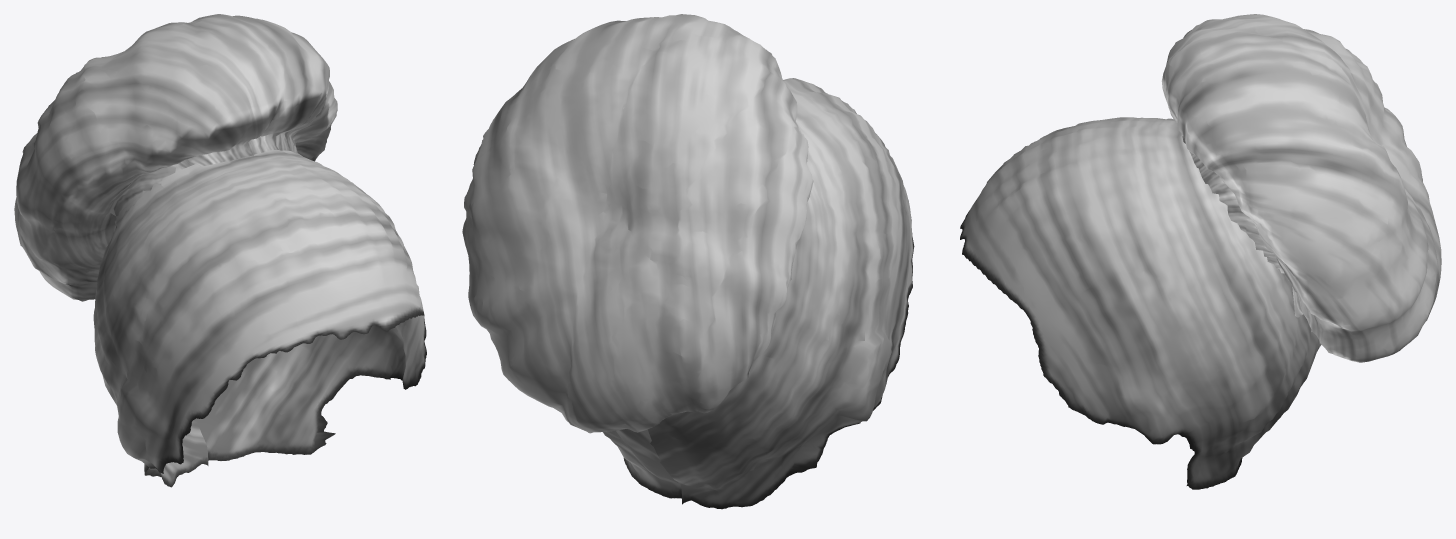
Rendered from daz_hair_crown_braid.glb.
3 views of the same model, side by side, from view 1: azimuth 30°, elevation 25°; view 2: azimuth 150°, elevation 25°; view 3: azimuth 270°, elevation 25° (orthographic). The views are drawn at different scales.
Visible parts, largest first — view 1: daz_hair_crown_braid; view 2: daz_hair_crown_braid; view 3: daz_hair_crown_braid.
Boxes of the visible parts, x1,y1,x2,y2 form: daz_hair_crown_braid: [14, 14, 426, 487]; daz_hair_crown_braid: [462, 14, 914, 509]; daz_hair_crown_braid: [960, 14, 1441, 489].
Bounding box in the file's own units: 0.1689 × 0.2493 × 0.2487.
Materials: 1 (1 with a texture image).
